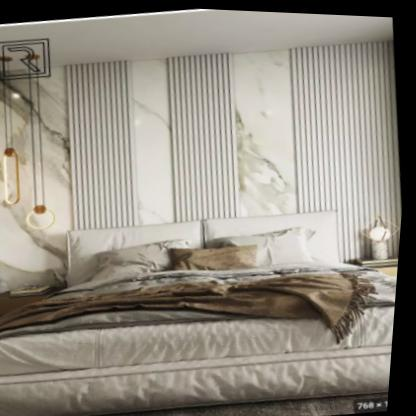Bed: (0, 184, 405, 416)
Wall Panel: (0, 21, 415, 307)
